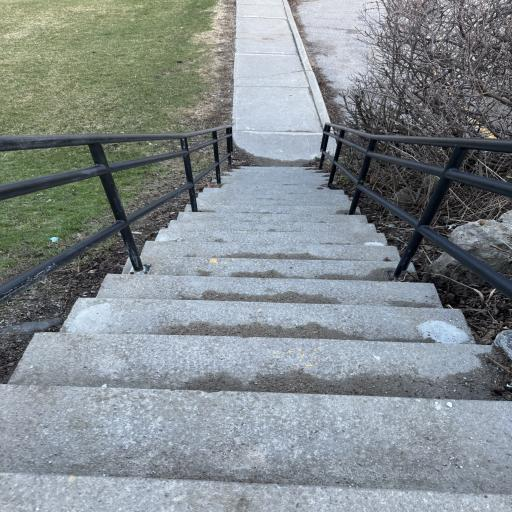Stairs: (0, 167, 512, 512)
